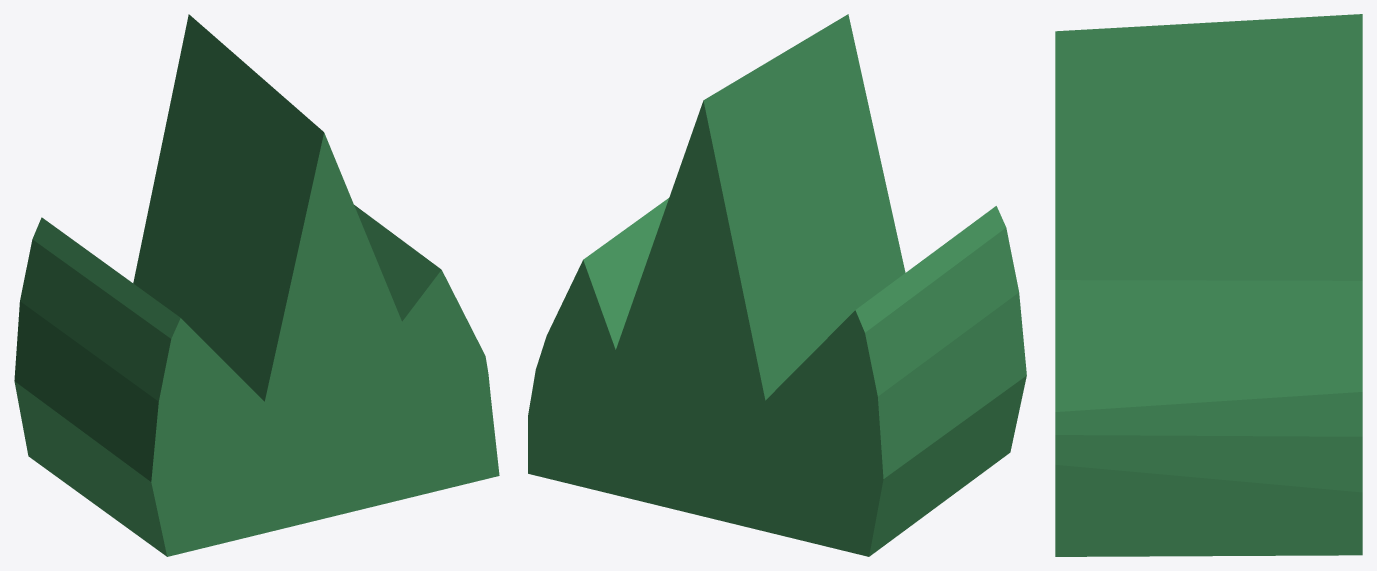
The model's file is Arbusto1.glb.
The picture shows the model from 3 angles, left to right: view 1: azimuth 30°, elevation 25°; view 2: azimuth 150°, elevation 25°; view 3: azimuth 270°, elevation 25°; orthographic projection. The views are drawn at different scales.
Parts seen in each view (by area): view 1: Cube; view 2: Cube; view 3: Cube.
Boxes of the visible parts, bbox=[...] form: Cube: bbox=[14, 14, 499, 556]; Cube: bbox=[528, 14, 1026, 556]; Cube: bbox=[1055, 14, 1362, 556].
Bounding box in the file's own units: 0.7235 × 0.8004 × 0.4962.
